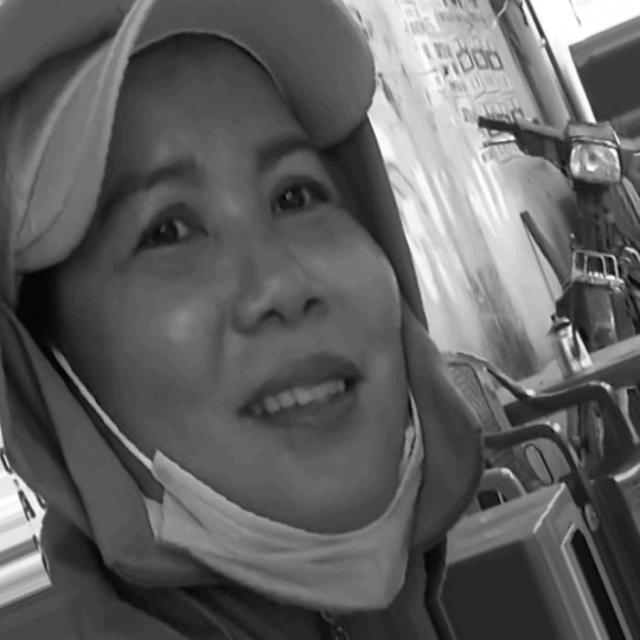hairnet: (116, 143, 423, 610)
